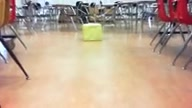cube: (83, 23, 101, 41)
